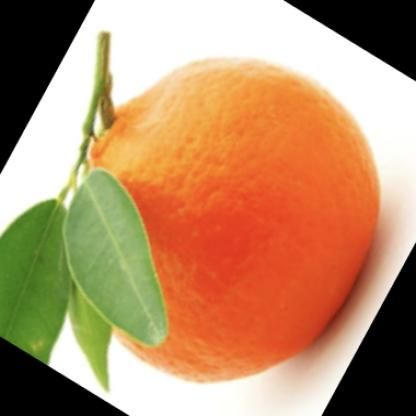fresh: (65, 59, 378, 391)
